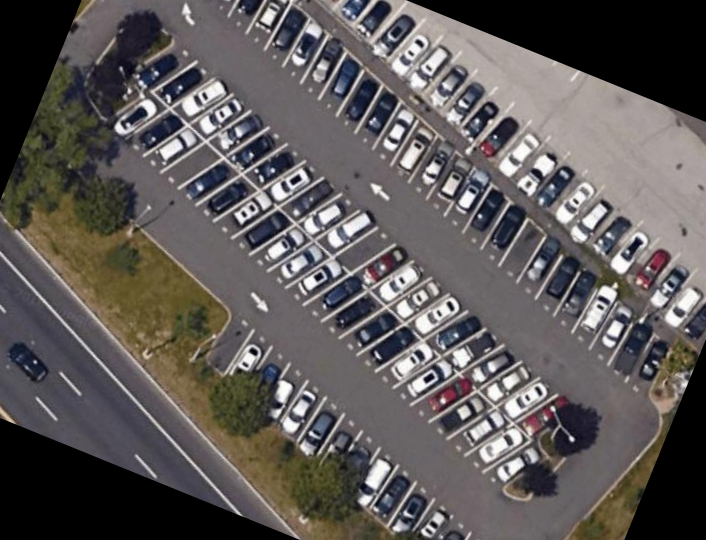parkingspot: (98, 39, 593, 495), (206, 0, 676, 407), (316, 0, 706, 354), (202, 306, 483, 540)
